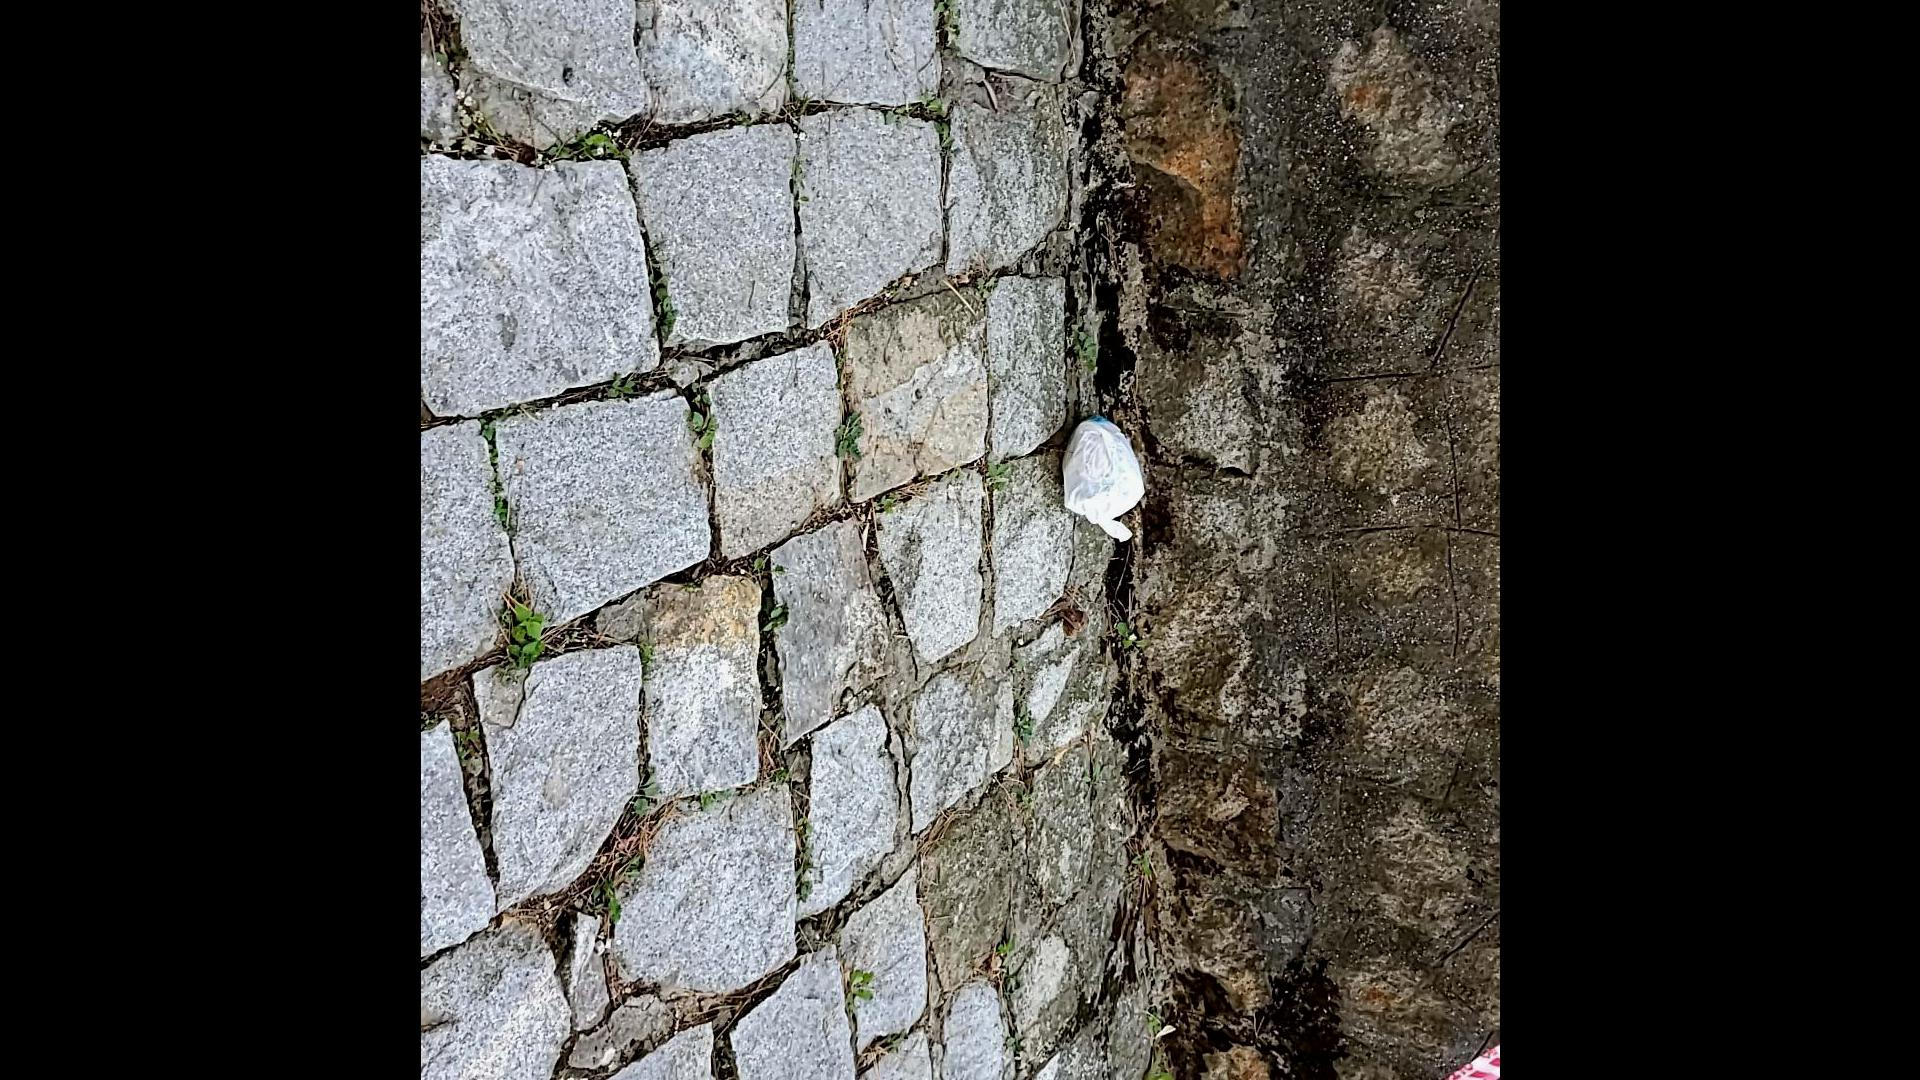white_bag: (1050, 401, 1155, 553)
